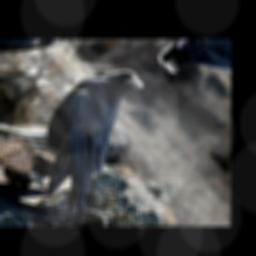Crow: (0, 60, 218, 224)
